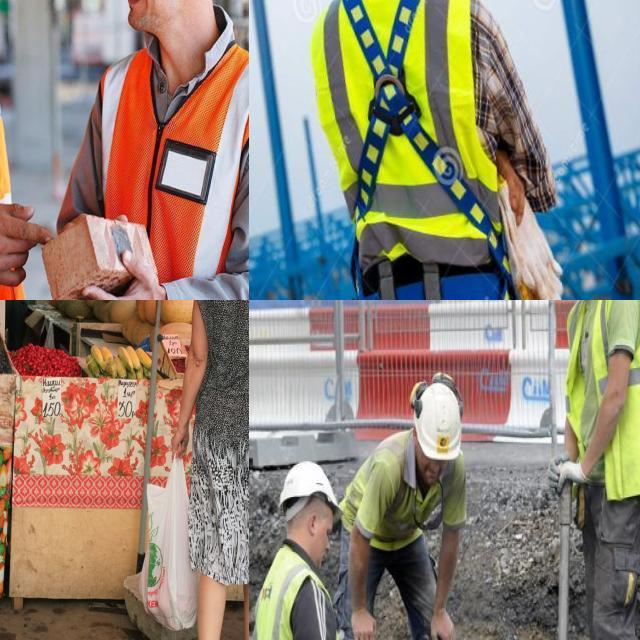Harness: (341, 0, 513, 300)
face_nomask: (112, 0, 191, 43), (308, 515, 337, 570)
hand_glove: (546, 450, 590, 501)
hand_noglove: (0, 198, 51, 296), (68, 253, 171, 300), (430, 597, 460, 640), (348, 607, 379, 640)
head_helmet: (411, 373, 464, 460), (276, 462, 341, 518)
person: (57, 0, 249, 300), (340, 378, 472, 640), (540, 300, 640, 640), (255, 460, 379, 640)
vest: (93, 36, 249, 300), (566, 300, 640, 496), (337, 423, 442, 549), (251, 545, 346, 640)
